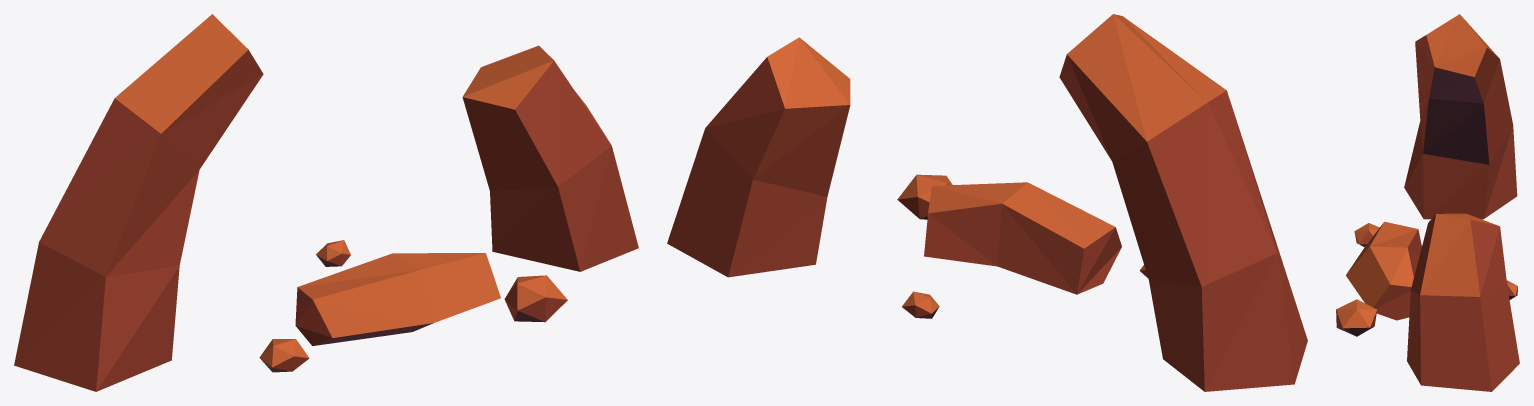
File: Rock_Arch_B.fbx
3 views of the same model, side by side, from view 1: azimuth 30°, elevation 25°; view 2: azimuth 150°, elevation 25°; view 3: azimuth 270°, elevation 25° (orthographic). The views are drawn at different scales.
Parts seen in each view (by area): view 1: Rock_Arch_B; view 2: Rock_Arch_B; view 3: Rock_Arch_B.
Boxes of the visible parts, bbox=[...] form: Rock_Arch_B: bbox=[14, 14, 638, 391]; Rock_Arch_B: bbox=[667, 14, 1307, 391]; Rock_Arch_B: bbox=[1336, 14, 1519, 391].
Size of the model in its own units: 12.94 by 6.37 by 4.64.
